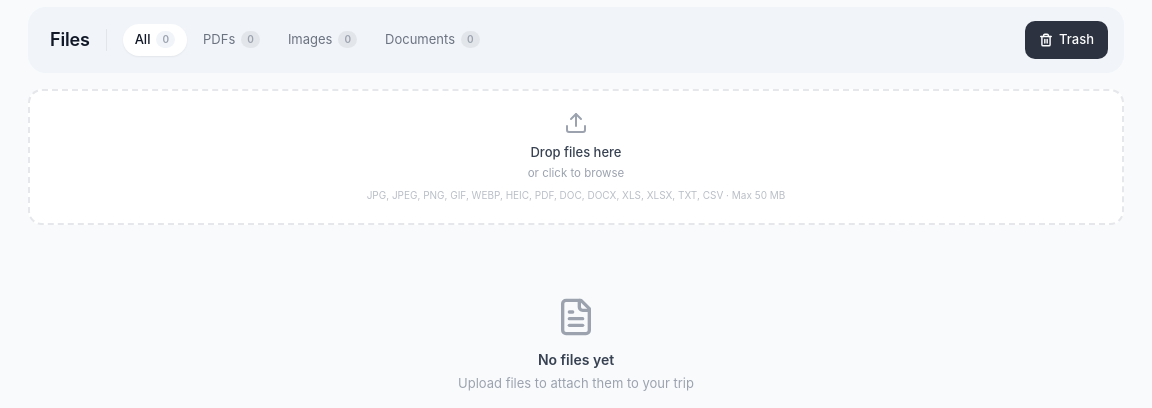
Test: FileManager › FE-COMP-FILEMANAGER-006: trash toggle loads and displays trashed files
The image size is (1152, 408).
# Click trash toggle button
What coordinates should you click on to do the following:
click the button "Trash"
I would click on:
 (1067, 40)
Its box is [1025, 21, 1108, 58].
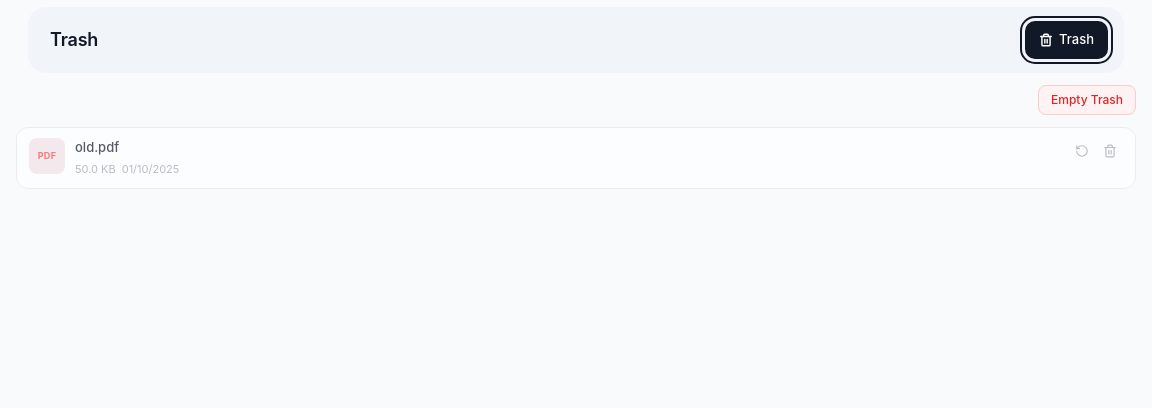
Check: the text "old.pdf" is shown, box [75, 138, 119, 157]
